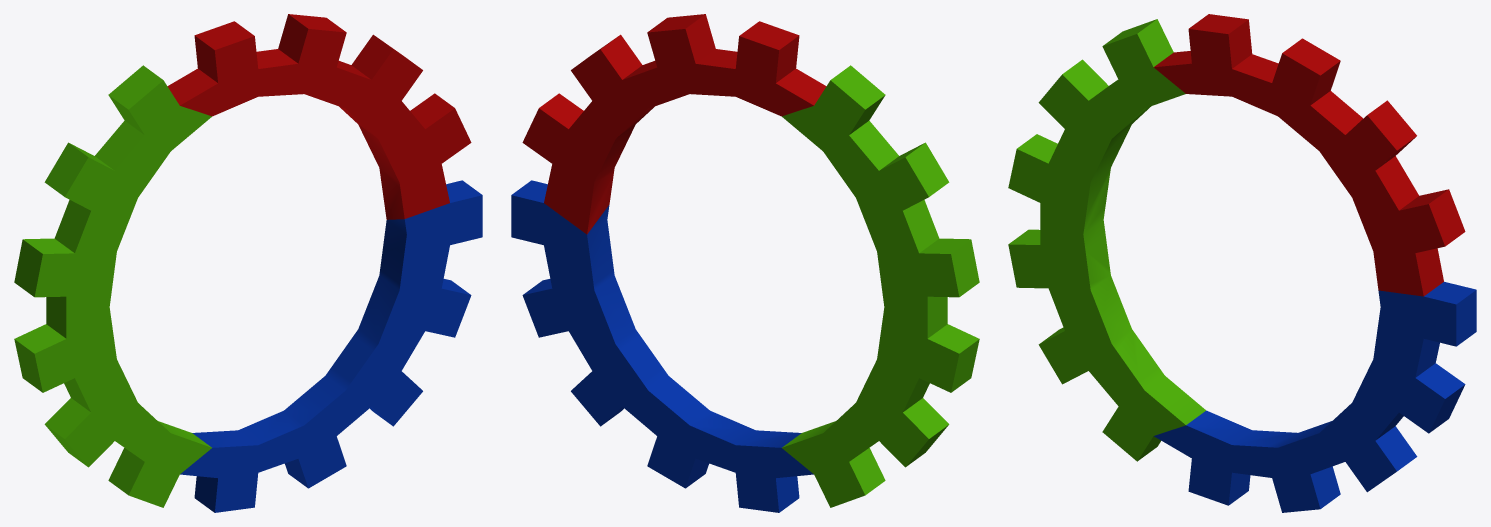
Rendered from Enemy_X_Gear.fbx.
The picture shows the model from 3 angles, left to right: view 1: azimuth 30°, elevation 25°; view 2: azimuth 150°, elevation 25°; view 3: azimuth 330°, elevation 25°; orthographic projection.
Parts seen in each view (by area): view 1: polySurface1; view 2: polySurface1; view 3: polySurface1.
Part boxes in pixels (<box>): polySurface1: <box>14,14,482,512</box>; polySurface1: <box>511,14,979,512</box>; polySurface1: <box>1008,14,1476,512</box>.
Size of the model in its own units: 3.6 by 3.62 by 0.2824.
